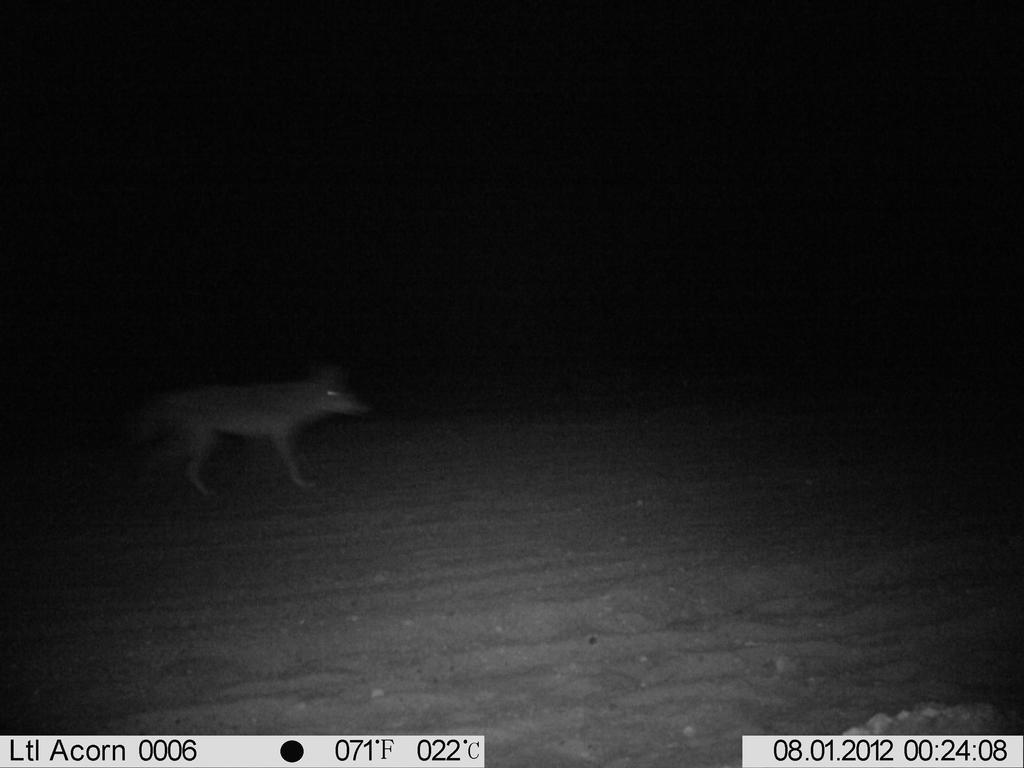coyote: (118, 351, 378, 505)
